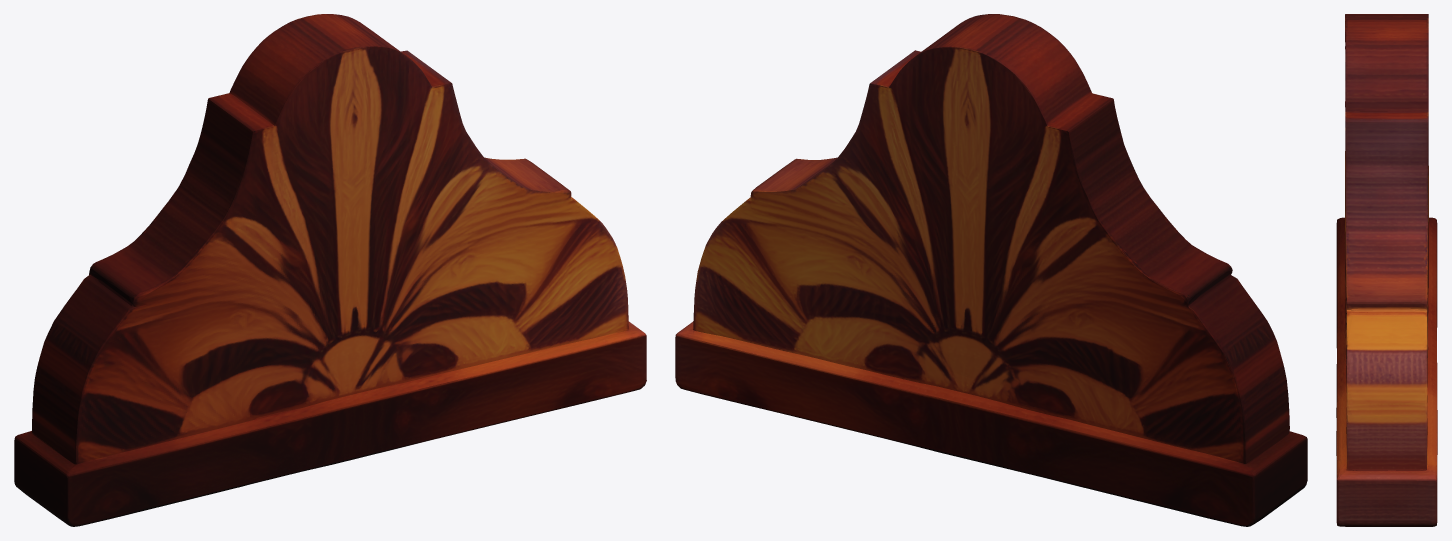
The model's file is wooden-doorstop-art-deco.jpeg.glb.
3 renders of one model, left to right at view 1: azimuth 30°, elevation 25°; view 2: azimuth 150°, elevation 25°; view 3: azimuth 270°, elevation 25°, orthographic. The views are drawn at different scales.
Visible parts, largest first — view 1: world; view 2: world; view 3: world.
Part boxes in pixels (box(x1,y1,x2,y2)): world: box(14, 14, 646, 526); world: box(675, 14, 1307, 526); world: box(1336, 14, 1437, 526).
Size of the model in its own units: 1 by 0.6726 by 0.1636.
1 material, 1 textured.
